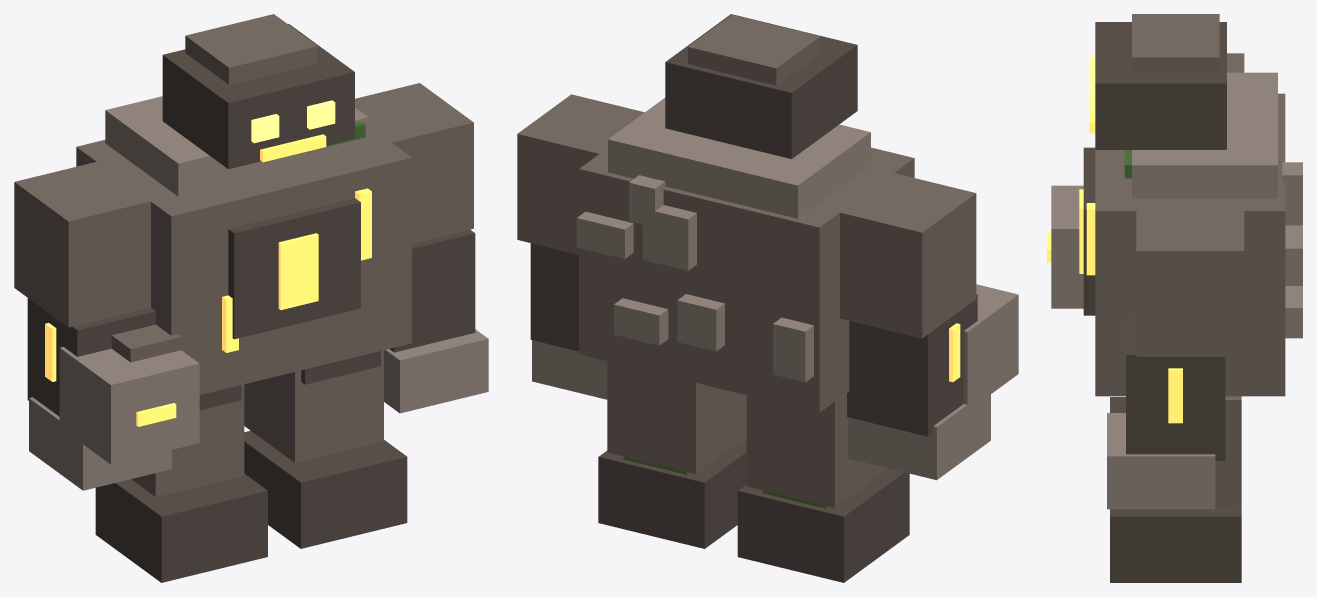
Rendered from monster-artillery.glb.
3 views of the same model, side by side, from view 1: azimuth 30°, elevation 25°; view 2: azimuth 150°, elevation 25°; view 3: azimuth 270°, elevation 25° (orthographic).
Visible parts, largest first — view 1: body, right_arm, head, right_foot, weapon_rock, left_foot, body_chest, left_arm, left_leg, body_top, left_arm_fore, left_hand (+15 smaller); view 2: body, right_arm, body_top, head, right_foot, left_leg, right_arm_fore, left_arm, left_foot, right_leg, right_hand, head_top (+10 smaller); view 3: body, left_arm, head, body_top, left_foot, left_arm_fore, left_hand, head_top, weapon_rock, left_leg, body_chest, body_rock1 (+6 smaller).
Part boxes in pixels (x1,y1,x2,y2): body: (76,132,411,394); right_arm: (14,162,156,327); head: (162,24,354,169); right_foot: (95,473,267,582); weapon_rock: (59,347,199,464); left_foot: (244,430,407,548); body_chest: (228,198,360,339); left_arm: (355,83,473,243); left_leg: (244,350,383,462); body_top: (105,96,368,196); left_arm_fore: (390,229,475,352); left_hand: (384,329,488,413); body: (579,147,914,412); right_arm: (834,171,976,338); body_top: (608,98,870,218); head: (665,14,857,158); right_foot: (737,468,909,582); left_leg: (607,361,746,473); right_arm_fore: (847,294,977,436); left_arm: (517,94,644,254); left_foot: (598,437,746,548); right_leg: (746,393,886,507); right_hand: (848,388,990,480); head_top: (688,15,820,85); body: (1095,93,1285,396); left_arm: (1136,207,1244,356); head: (1095,22,1226,149); body_top: (1132,72,1277,198); left_foot: (1110,505,1241,582); left_arm_fore: (1126,317,1225,460); left_hand: (1107,413,1215,509); head_top: (1132,14,1219,74); weapon_rock: (1051,185,1083,308); left_leg: (1215,396,1241,505); body_chest: (1083,147,1095,315); body_rock1: (1282,162,1302,213).
Bounding box in the file's own units: 3.2 × 3.68 × 1.75.
